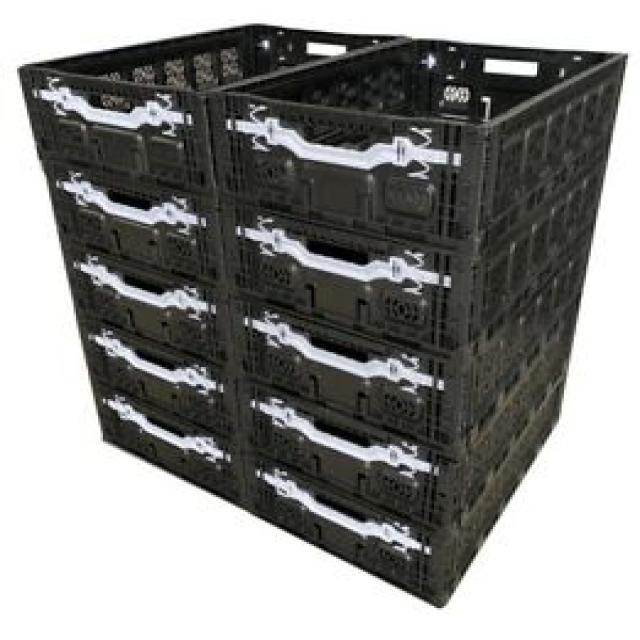basket: (0, 3, 628, 619)
